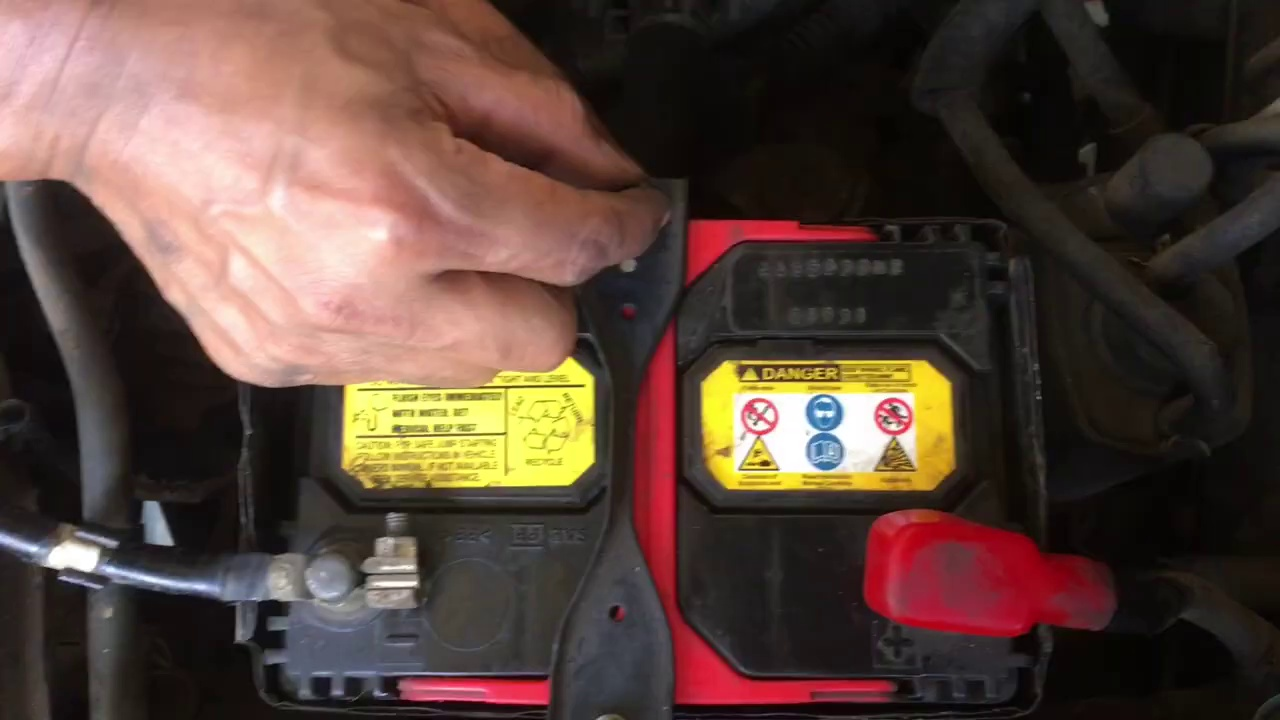battery: (295, 205, 1041, 714)
neg_connected: (190, 519, 439, 654)
pos_connected: (855, 479, 1115, 650)
